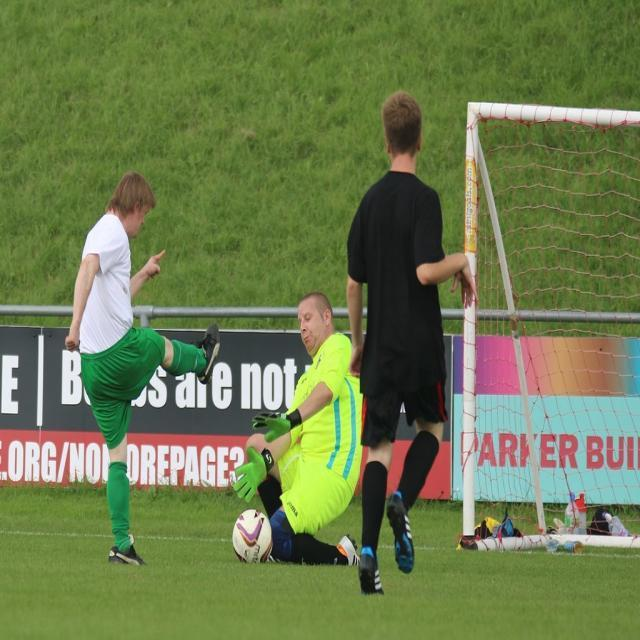football: (227, 486, 284, 572)
